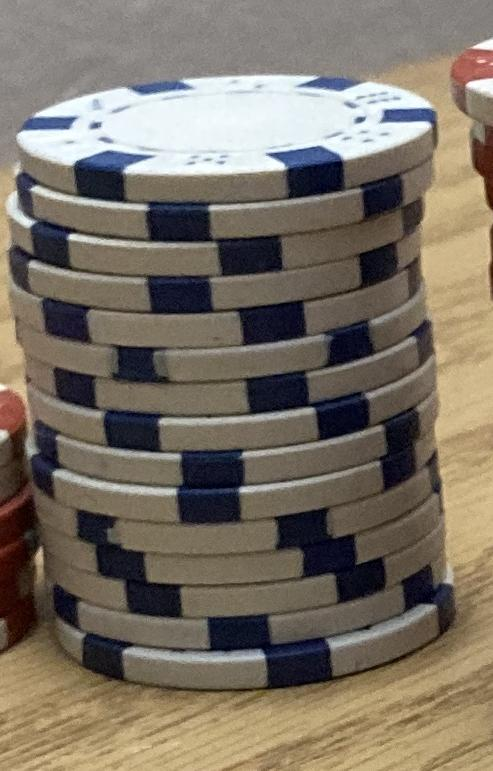Chip: (1, 1, 493, 771)
